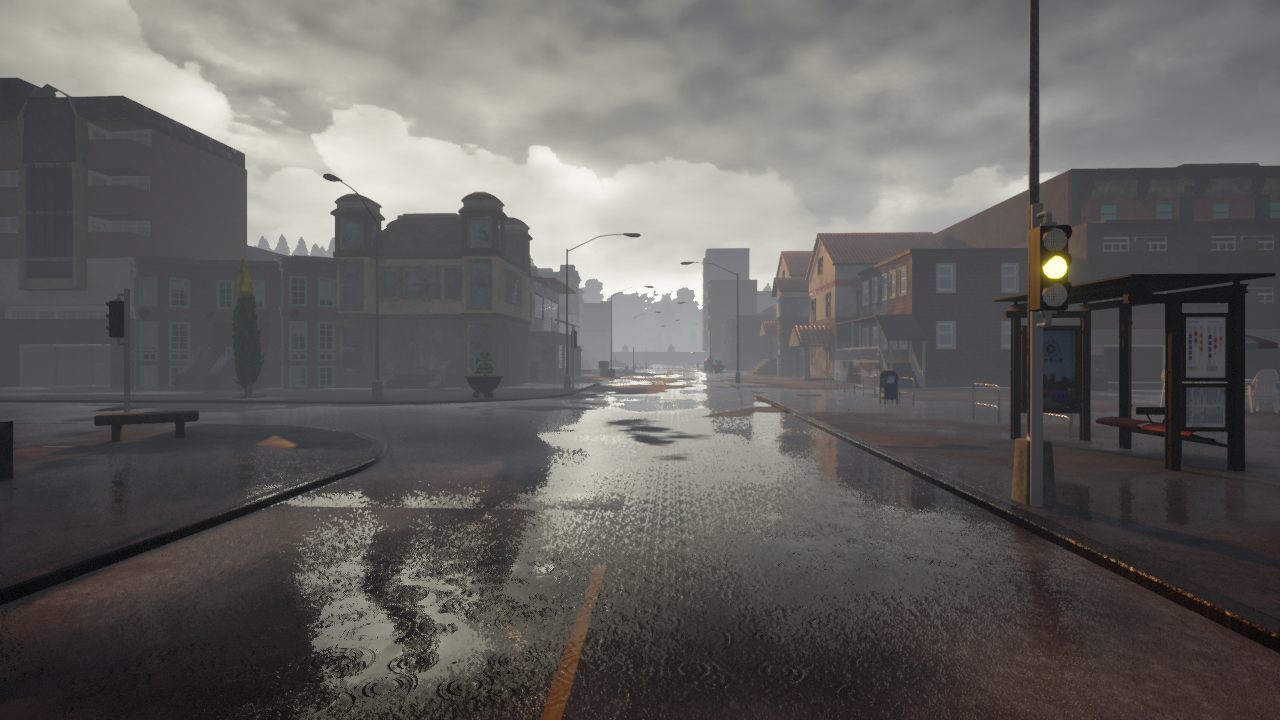yellow: (1031, 219, 1074, 316)
